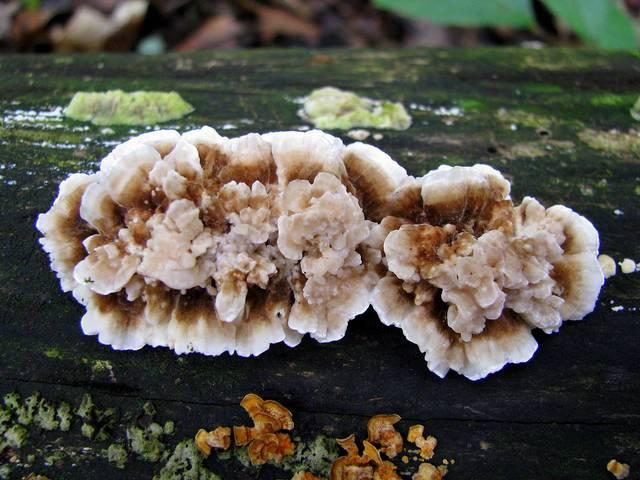poisonous_mushroom: (35, 124, 611, 380)
